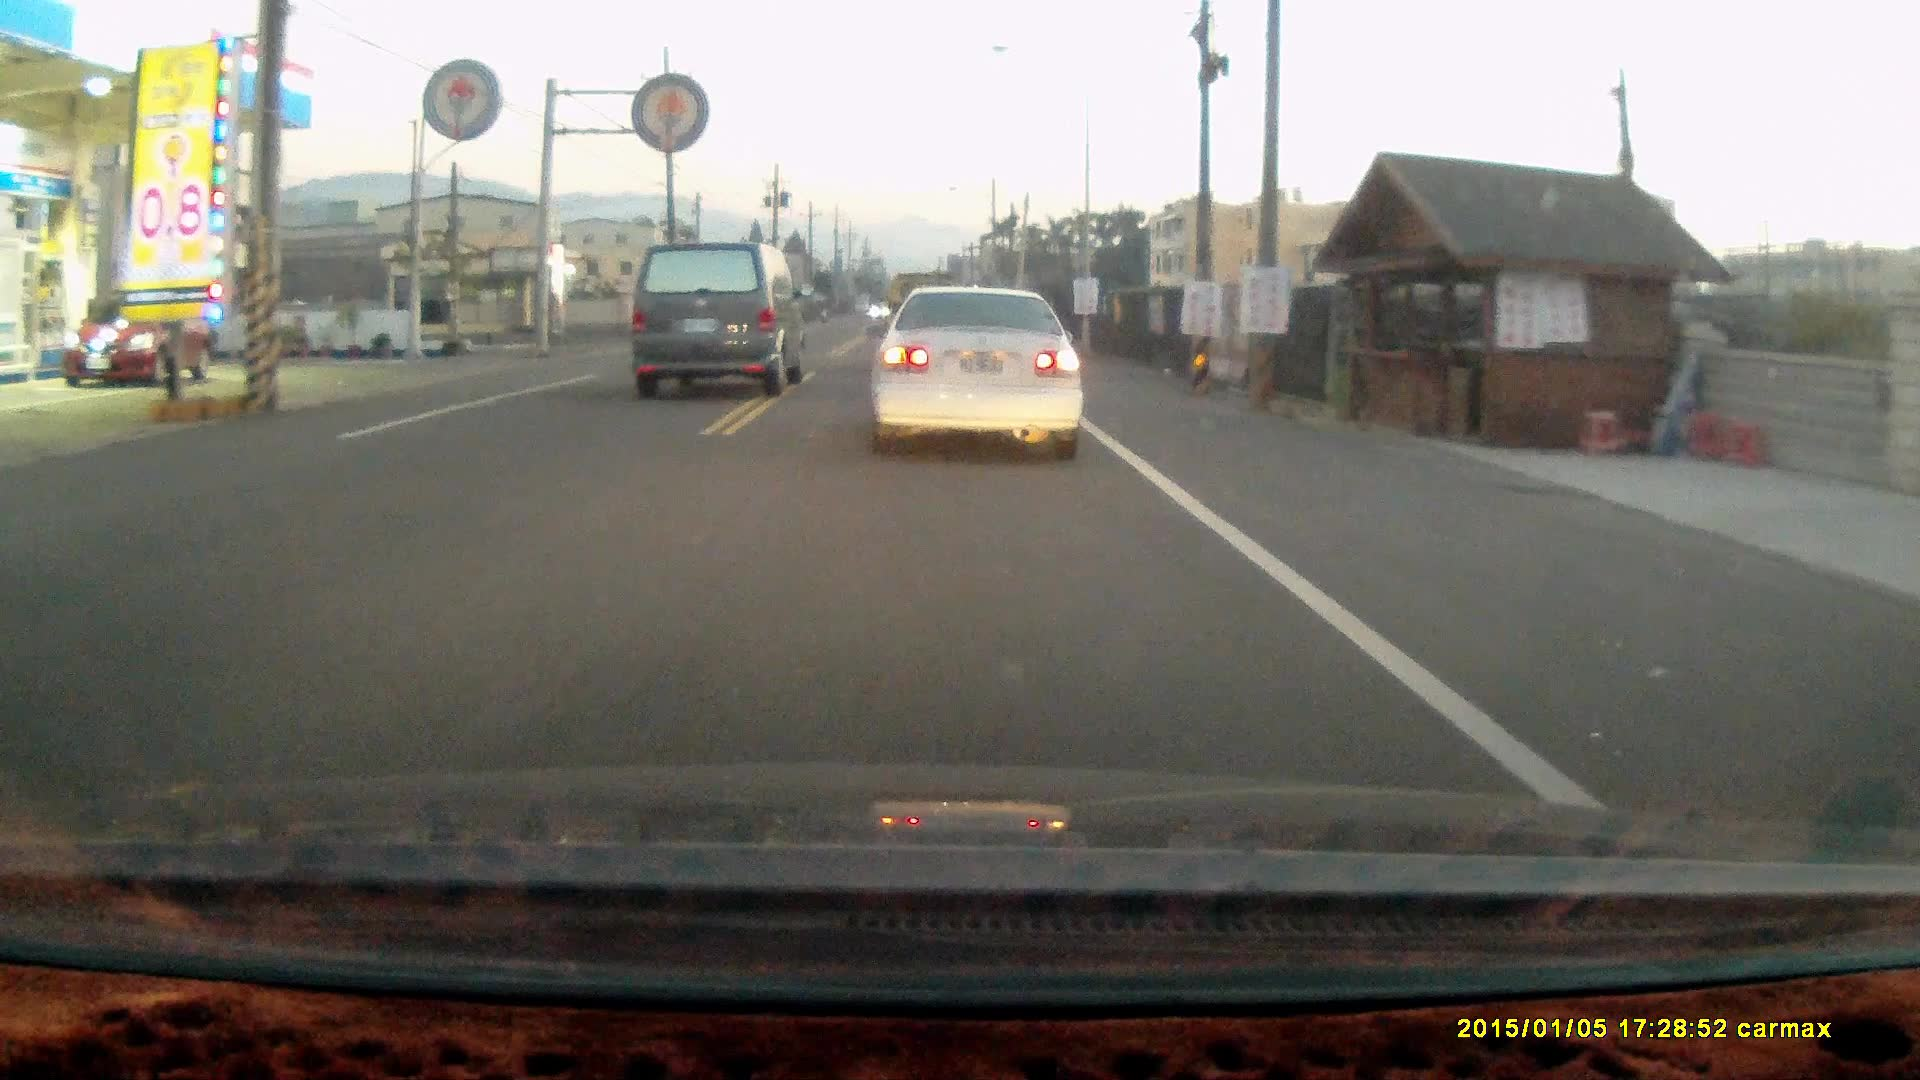vehicle: (862, 282, 1091, 464), (626, 239, 808, 396), (71, 293, 218, 392)
